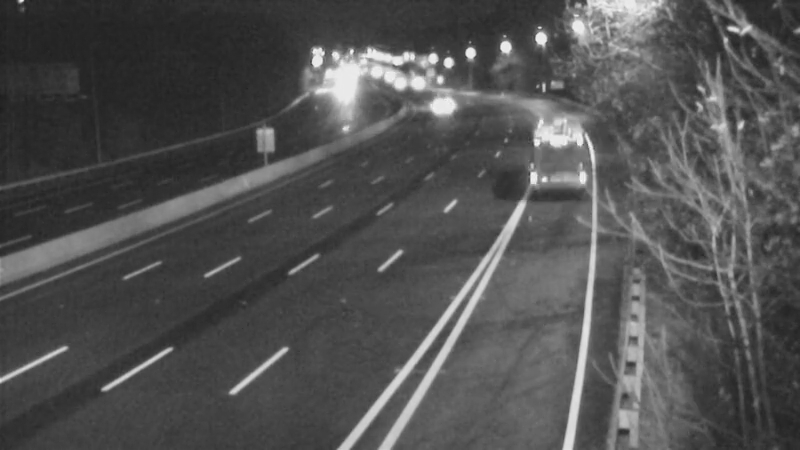vehicle: (373, 59, 423, 109), (394, 58, 444, 108), (419, 83, 469, 133), (528, 114, 578, 164), (320, 71, 370, 121)
